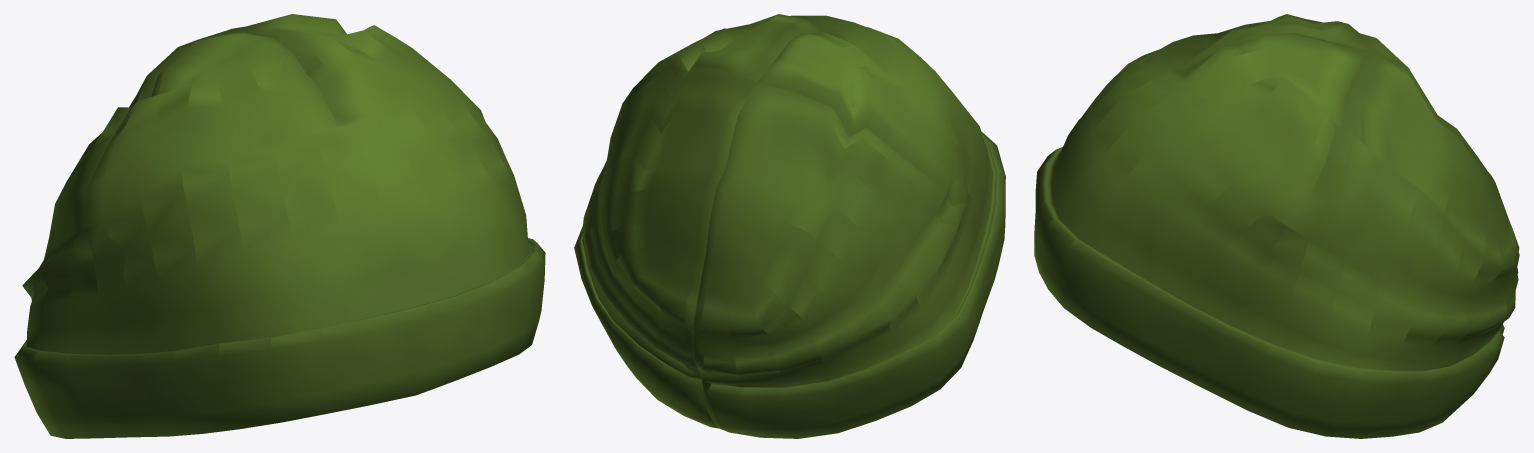
The model's file is Beanie.fbx.
The picture shows the model from 3 angles, left to right: view 1: azimuth 30°, elevation 25°; view 2: azimuth 150°, elevation 25°; view 3: azimuth 270°, elevation 25°; orthographic projection. The views are drawn at different scales.
Parts seen in each view (by area): view 1: Beanie; view 2: Beanie; view 3: Beanie.
Boxes of the visible parts, <box> form: Beanie: <box>14,14,545,438</box>; Beanie: <box>574,14,1005,438</box>; Beanie: <box>1034,14,1519,438</box>.
Bounding box in the file's own units: 4.14 × 3.46 × 4.15.
1 material, 1 textured.
